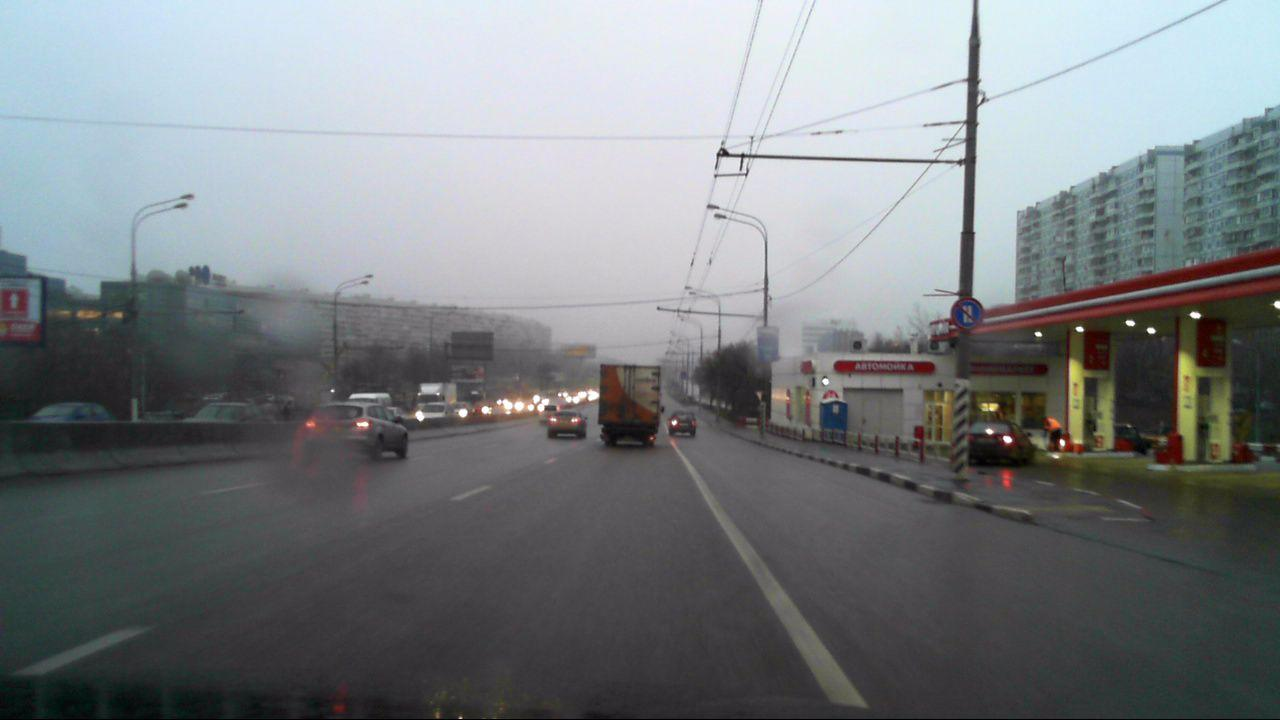3_30: (950, 296, 983, 329)
